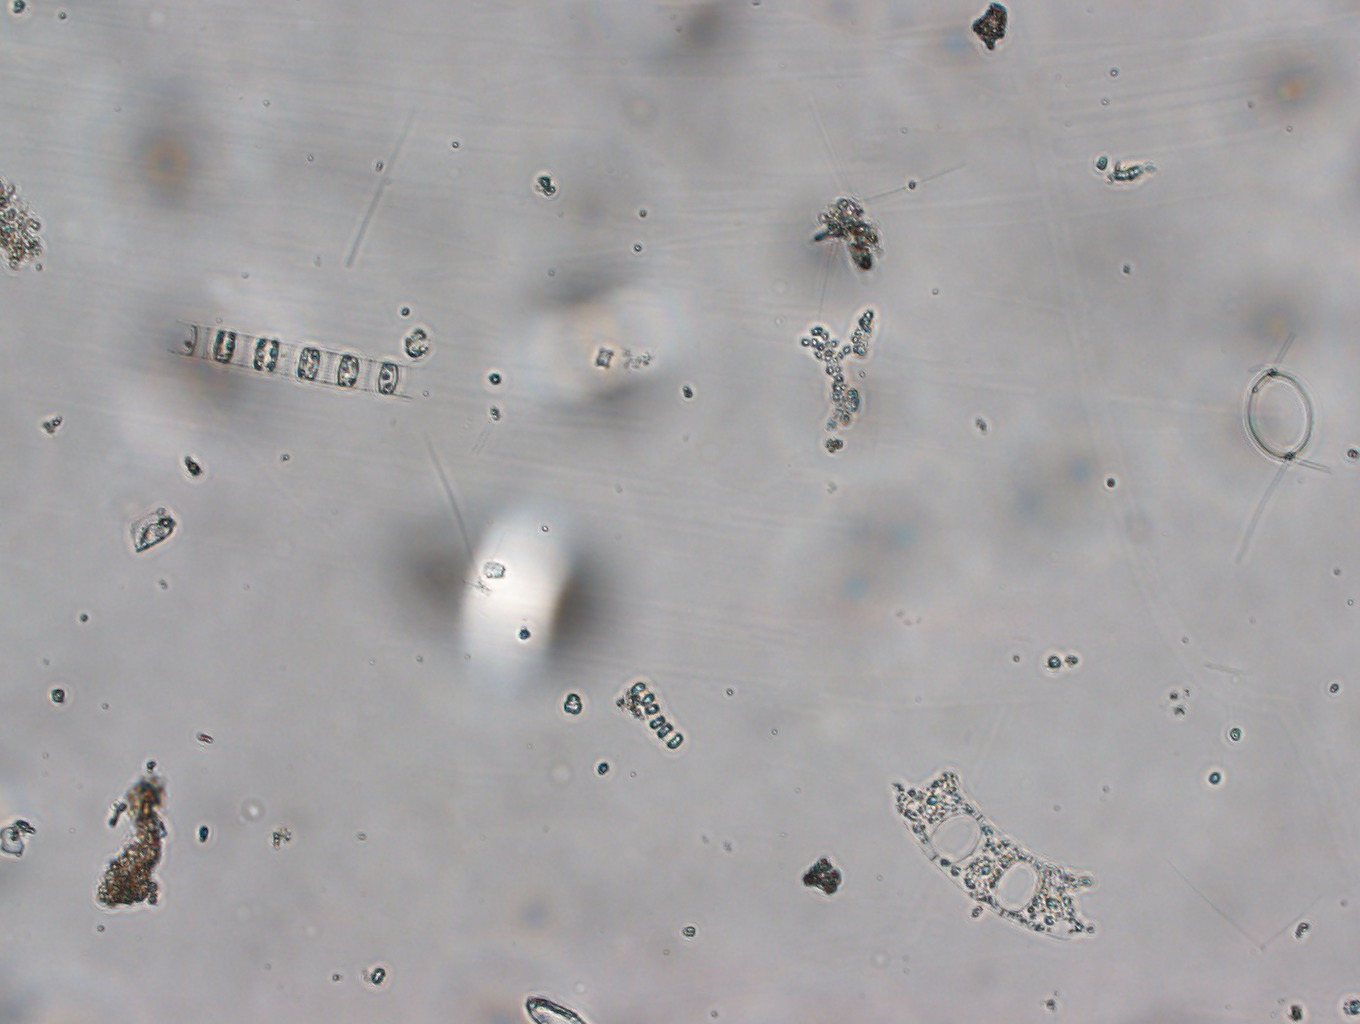eucampia: (873, 760, 1127, 948)
skeletonema: (158, 317, 541, 422)
